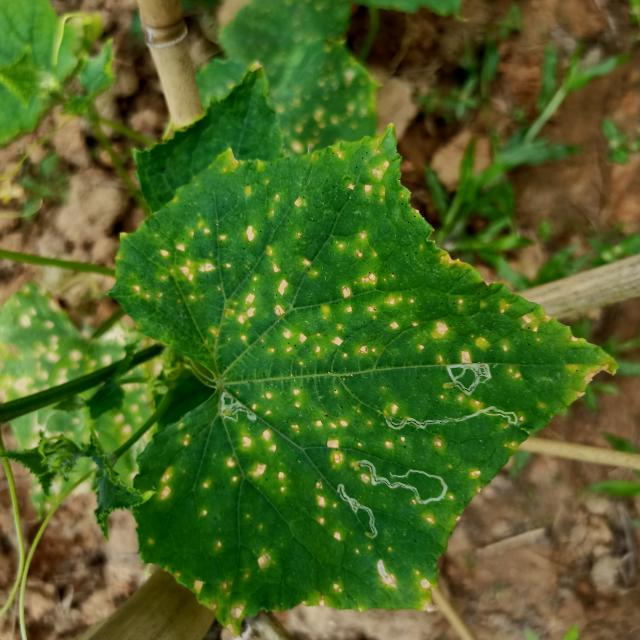disease_cucumber: (124, 162, 583, 370), (166, 362, 527, 606)
